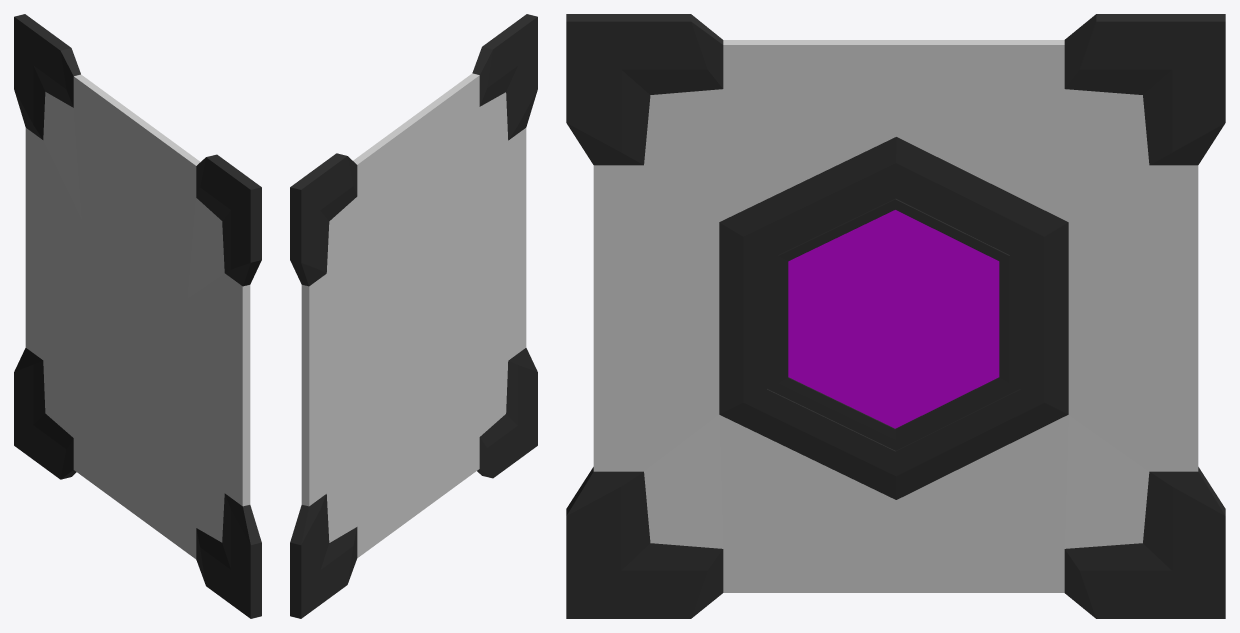
The model's file is Blender_Wall.fbx.
The picture shows the model from 3 angles, left to right: view 1: azimuth 30°, elevation 25°; view 2: azimuth 150°, elevation 25°; view 3: azimuth 270°, elevation 25°; orthographic projection. The views are drawn at different scales.
Parts seen in each view (by area): view 1: pCube1; view 2: pCube1; view 3: pCube1.
Part boxes in pixels (<box>): pCube1: <box>14,14,261,618</box>; pCube1: <box>290,14,537,618</box>; pCube1: <box>566,14,1225,618</box>.
Size of the model in its own units: 13.38 by 491 by 491.
